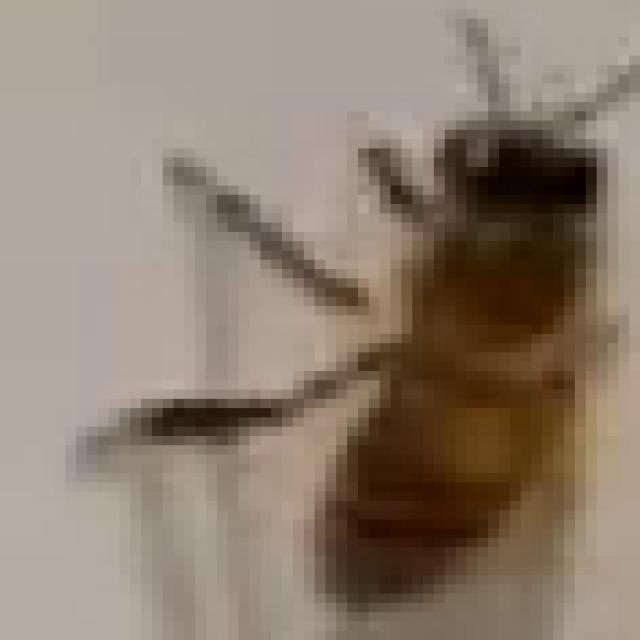honeybee: (217, 28, 640, 640)
